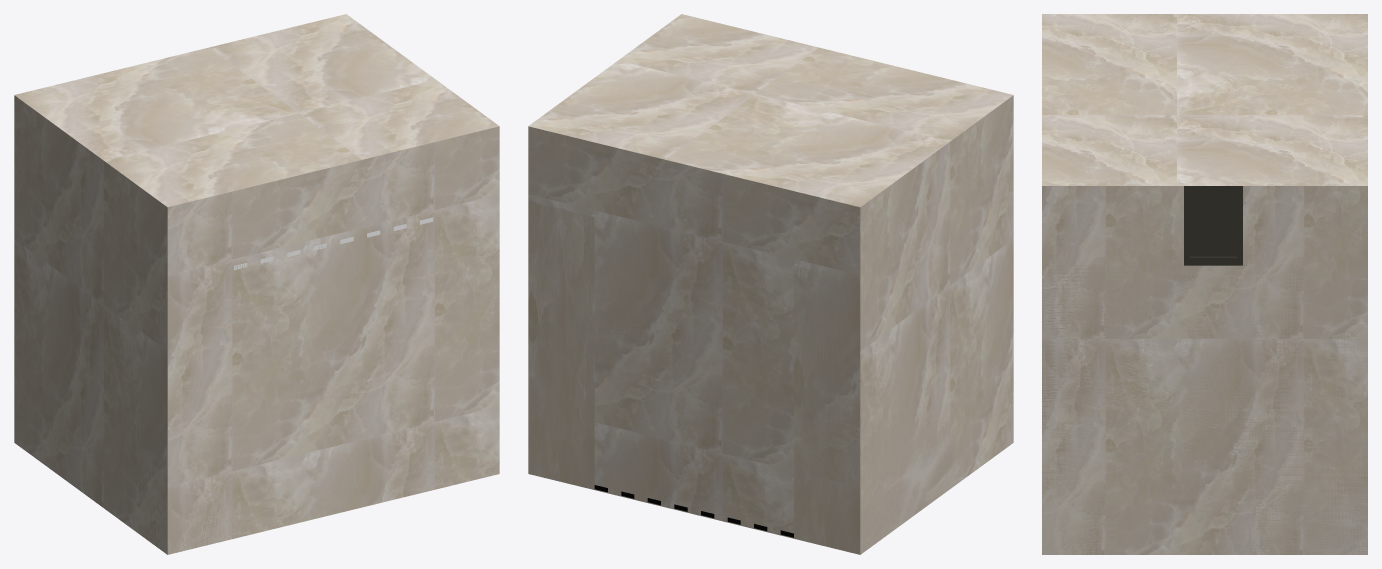
The model's file is Small Room 2.fbx.
The picture shows the model from 3 angles, left to right: view 1: azimuth 30°, elevation 25°; view 2: azimuth 150°, elevation 25°; view 3: azimuth 270°, elevation 25°; orthographic projection. The views are drawn at different scales.
Visible parts, largest first — view 1: Cube.025, Cube.028, Cube.029; view 2: Cube.025, Cube.028, Cube.029; view 3: Cube.025, Cube.029, Cube.027.
Boxes of the visible parts, x1,y1,x2,y2 form: Cube.025: (14,14,499,554); Cube.028: (14,183,233,554); Cube.029: (433,210,479,338); Cube.025: (528,14,1013,551); Cube.028: (794,170,1013,554); Cube.029: (528,201,594,489); Cube.025: (1042,14,1367,554); Cube.029: (1042,265,1367,554); Cube.027: (1184,186,1242,265).
Size of the model in its own units: 1000 by 1000 by 800.
Materials: 4 (1 with a texture image).
